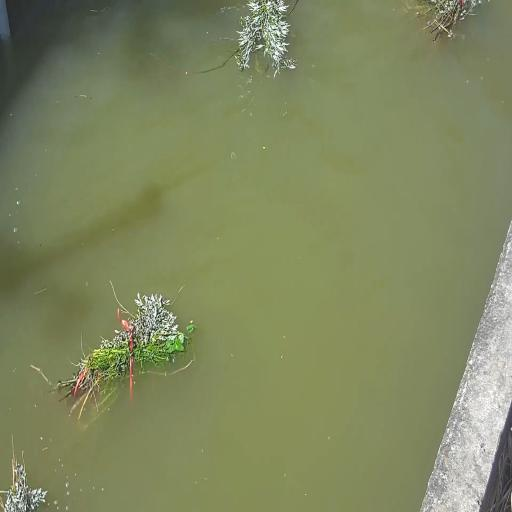twig: (44, 284, 198, 420), (154, 3, 293, 77), (1, 436, 49, 512), (403, 1, 484, 45)
